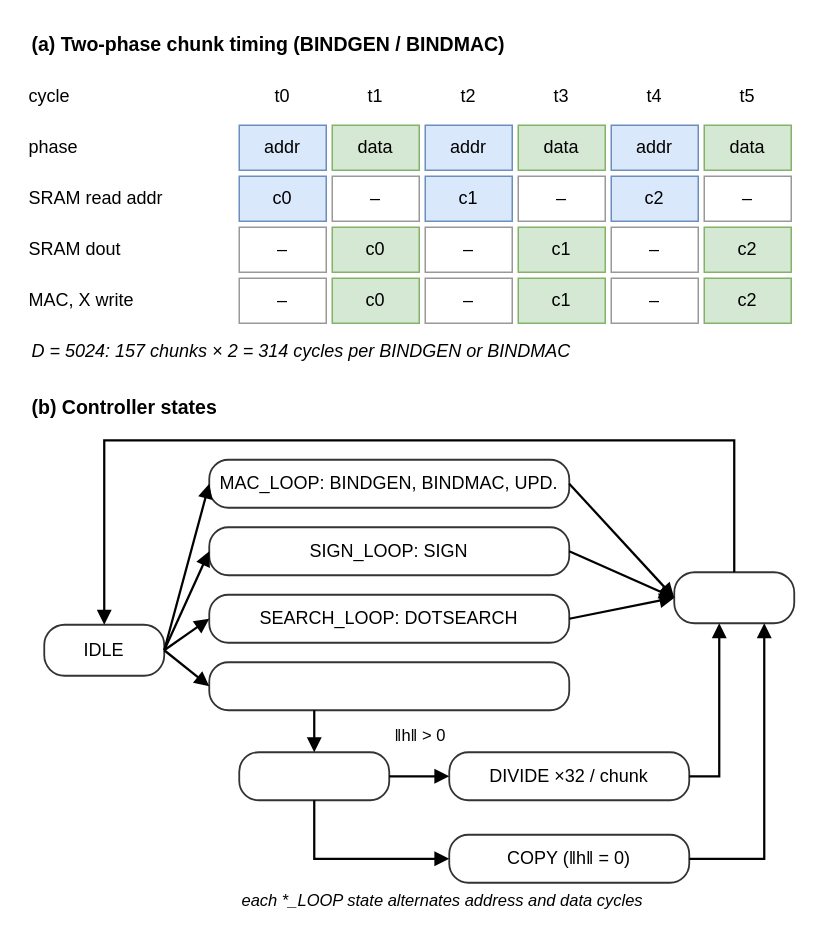
The diagram is 834 pixels wide and 939 high, and some of its shapes have lost their labels. The box of each missing label's shape, as (x1, y1, x2, y2) in pixels:
DONE: (673, 571, 794, 623)
ISQRT: (238, 751, 389, 800)
NORMSQ: NORMALIZE: (208, 661, 569, 710)
